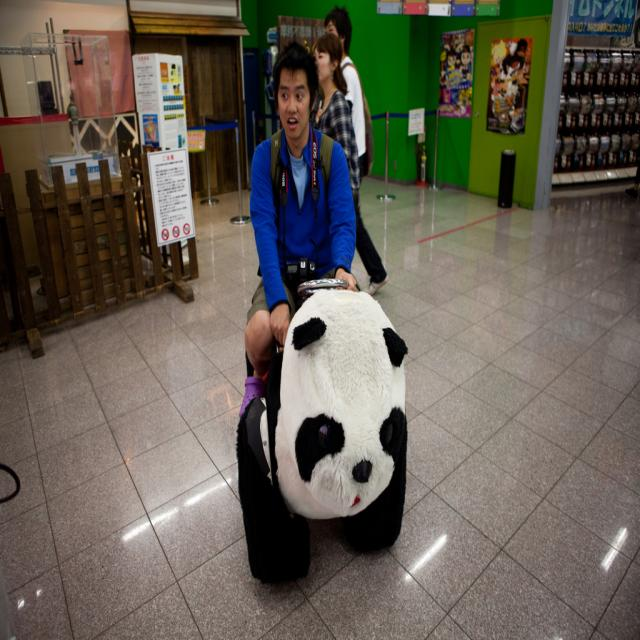panda: (233, 288, 407, 589)
